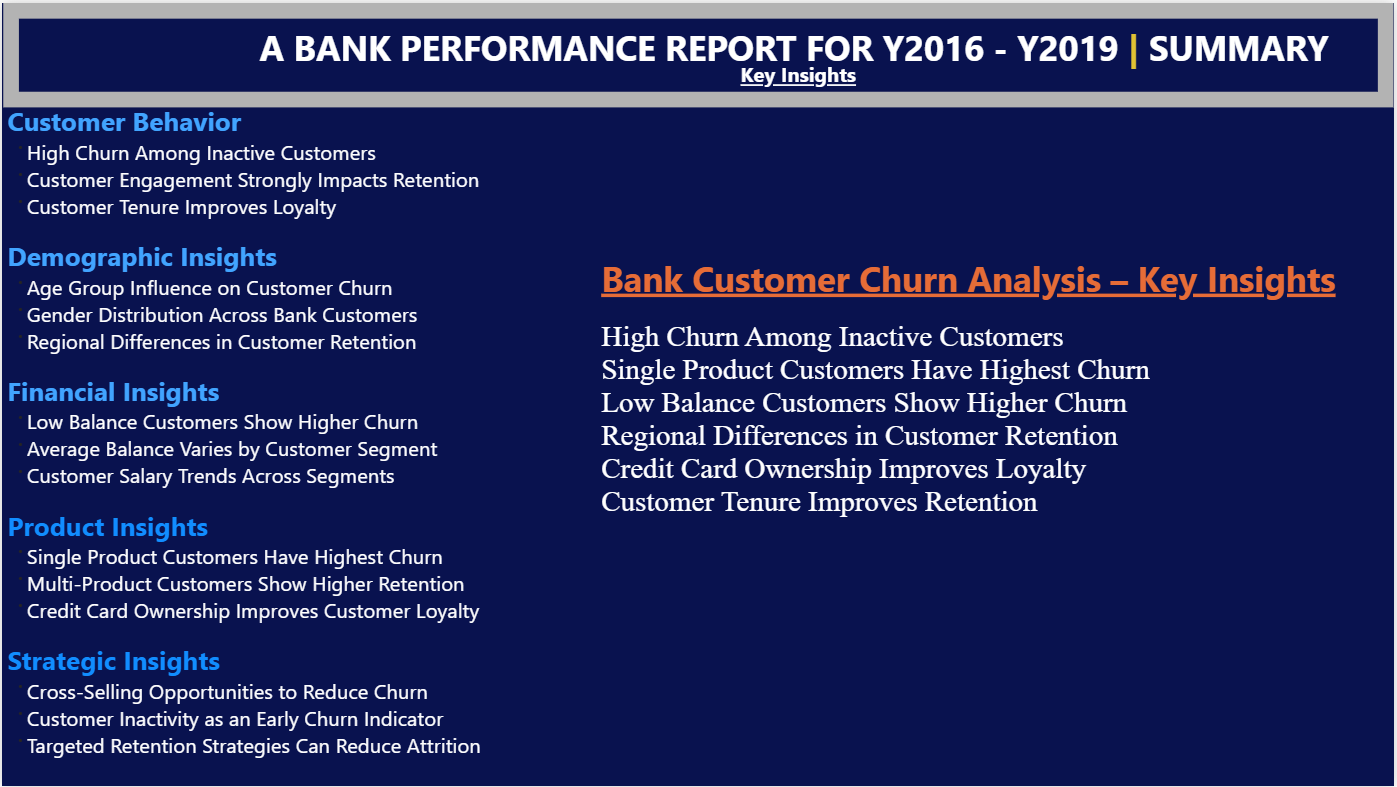

What the dashboard file says about the page in this screenshot:
{"tool":"powerbi","page":{"name":"Key Insights","canvas":[1280,720],"ordinal":3},"visuals":[{"type":"textbox","box":[0,87.5,498.8,632.5],"z":0},{"type":"textbox","box":[546.2,226.2,693.8,267.5],"z":2},{"type":"textbox","box":[1.2,0,1278.8,96.2],"z":3},{"type":"textbox","box":[533.3,47.8,397.8,41.1],"z":4}]}

Visuals, with their boxes in screenshot pixels (x1, y1, x2, y2), scaled from the page's 1280x720 canvas onto the 1397x787 screenshot:
textbox: [x1=0, y1=96, x2=544, y2=786]
textbox: [x1=596, y1=247, x2=1353, y2=540]
textbox: [x1=1, y1=0, x2=1396, y2=105]
textbox: [x1=582, y1=52, x2=1016, y2=97]
